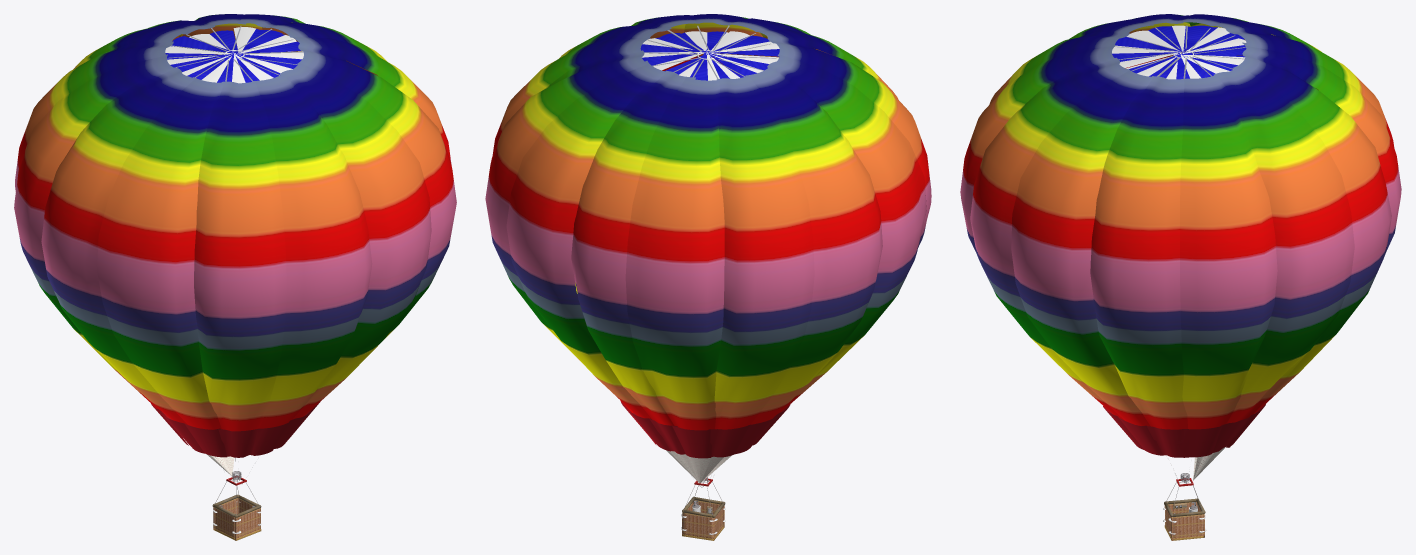
Rendered from balloonv2.glb.
3 views of the same model, side by side, from view 1: azimuth 30°, elevation 25°; view 2: azimuth 150°, elevation 25°; view 3: azimuth 270°, elevation 25° (orthographic).
Visible parts, largest first — view 1: Object_9, Object_5, Object_18, Object_3, Object_24, Object_7; view 2: Object_9, Object_18, Object_5, Object_3, Object_24, Object_17, Object_7; view 3: Object_9, Object_5, Object_18, Object_3, Object_24, Object_7.
Part boxes in pixels (x1,y1,x2,y2): Object_9: (14, 14, 456, 431); Object_5: (165, 29, 301, 82); Object_18: (151, 402, 319, 457); Object_3: (165, 27, 303, 83); Object_24: (213, 498, 260, 540); Object_7: (167, 26, 303, 81); Object_9: (485, 14, 931, 430); Object_18: (620, 401, 790, 504); Object_5: (640, 31, 779, 80); Object_3: (642, 31, 779, 80); Object_24: (682, 500, 724, 540); Object_17: (666, 450, 731, 483); Object_7: (644, 25, 776, 79); Object_9: (960, 14, 1401, 429); Object_5: (1112, 25, 1246, 79); Object_18: (1103, 404, 1265, 505); Object_3: (1112, 25, 1246, 79); Object_24: (1164, 502, 1204, 540); Object_7: (1115, 25, 1245, 78).
Size of the model in its own units: 0.5798 by 0.6947 by 0.5778.
37 materials, 19 textured.
